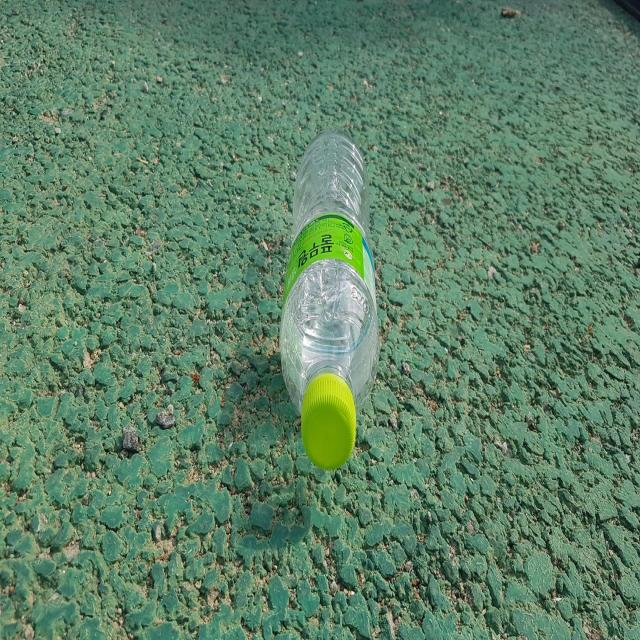plastic: (280, 129, 380, 469)
